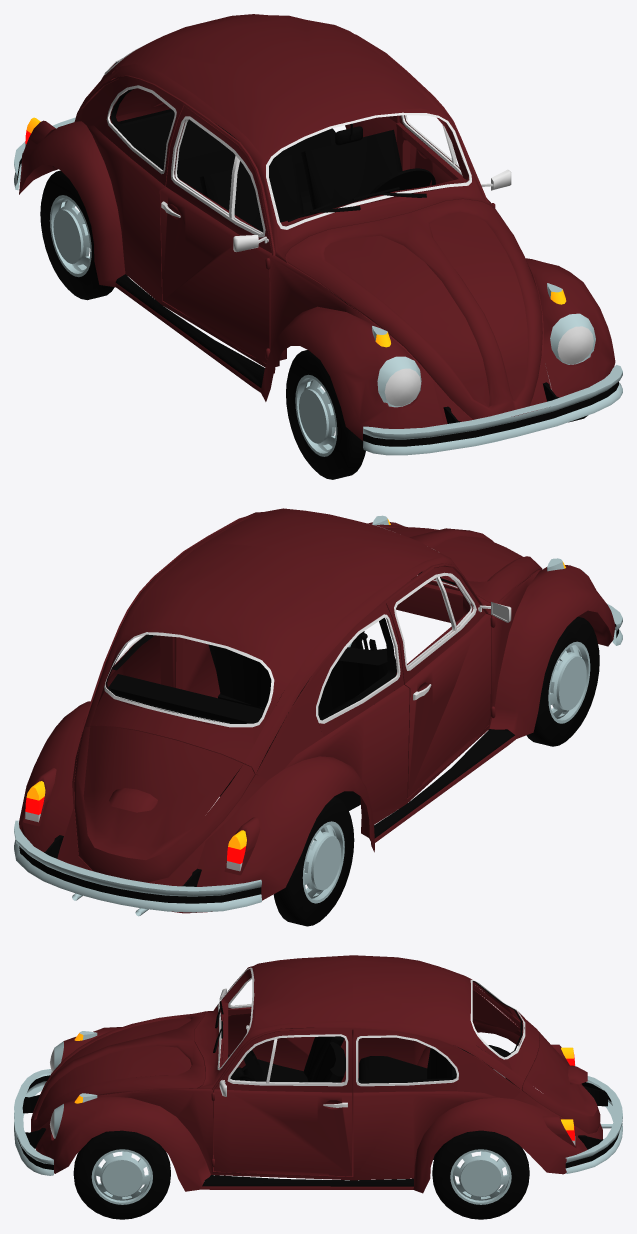
File: buba.fbx
3 views of the same model, one above another, from view 1: azimuth 30°, elevation 25°; view 2: azimuth 150°, elevation 25°; view 3: azimuth 270°, elevation 25° (orthographic). The views are drawn at different scales.
Parts seen in each view (by area): view 1: limarija, sedista, gume, prozori, branik.001, gazista, felne.001, felne, branik, svetla-prednja, svetla-prednja.001, volan (+1 smaller); view 2: limarija, sedista, gume, branik.001, prozori, spojler, gazista, felne.001, felne, branik, svetla-zadnja; view 3: limarija, gume, sedista, prozori, branik.001, felne.001, felne, gazista, branik, spojler, svetla-prednja.001, volan (+2 smaller).
Part boxes in pixels (<box>): limarija: <box>19,14,615,440</box>; sedista: <box>112,109,402,310</box>; gume: <box>40,128,587,479</box>; prozori: <box>104,45,511,251</box>; branik.001: <box>14,117,622,455</box>; gazista: <box>110,62,264,387</box>; felne.001: <box>49,195,551,456</box>; felne: <box>53,209,328,443</box>; branik: <box>17,158,618,446</box>; svetla-prednja: <box>384,326,593,406</box>; svetla-prednja.001: <box>372,283,595,407</box>; volan: <box>367,168,435,198</box>; limarija: <box>19,508,615,913</box>; sedista: <box>108,644,396,810</box>; gume: <box>273,617,599,926</box>; branik.001: <box>14,604,622,912</box>; prozori: <box>104,526,511,727</box>; spojler: <box>90,691,253,762</box>; gazista: <box>106,617,514,838</box>; felne.001: <box>302,641,590,903</box>; felne: <box>311,656,586,890</box>; branik: <box>19,624,618,903</box>; svetla-zadnja: <box>23,768,260,875</box>; limarija: <box>31,955,602,1193</box>; gume: <box>73,1045,529,1219</box>; sedista: <box>243,1036,466,1159</box>; prozori: <box>217,967,525,1107</box>; branik.001: <box>14,1069,622,1175</box>; felne.001: <box>91,1069,511,1204</box>; felne: <box>102,1159,501,1196</box>; gazista: <box>202,981,522,1186</box>; branik: <box>17,1075,619,1169</box>; spojler: <box>508,1009,539,1079</box>; svetla-prednja.001: <box>54,1031,97,1138</box>; volan: <box>230,1050,265,1081</box>.
Bounding box in the file's own units: 157 × 149 × 408.
